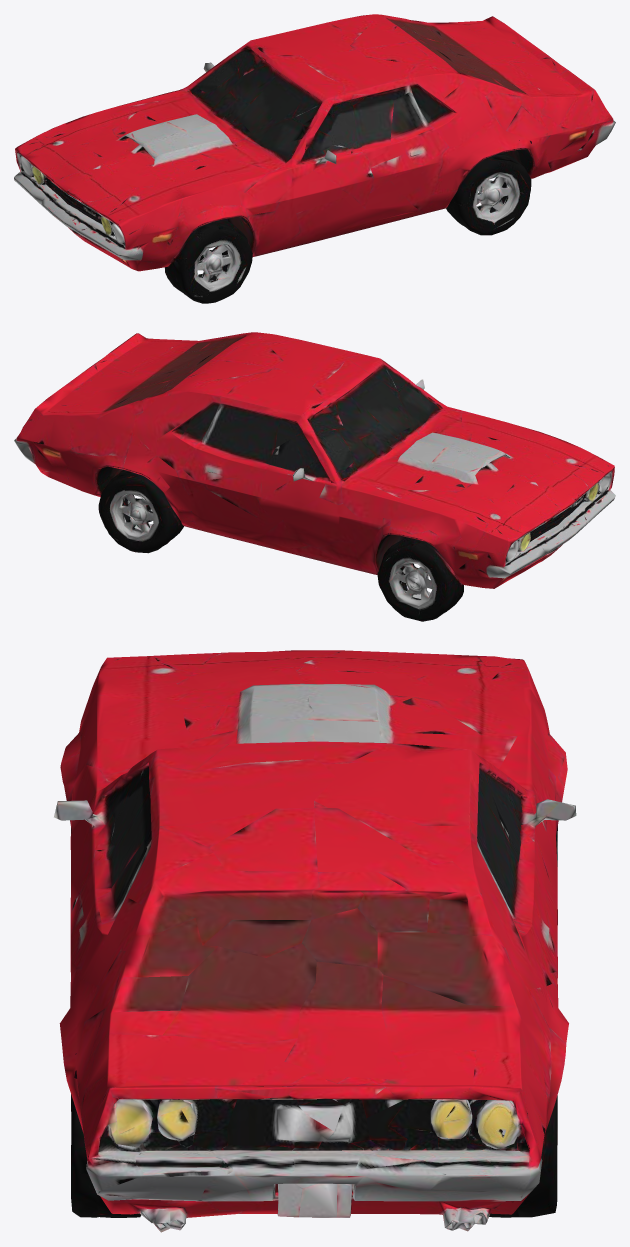
The model's file is coupe.glb.
3 renders of one model, top to bottom at view 1: azimuth 30°, elevation 25°; view 2: azimuth 150°, elevation 25°; view 3: azimuth 270°, elevation 25°, orthographic. The views are drawn at different scales.
Bounding box in the file's own units: 1.9 × 0.5835 × 0.8534.
1 material, 1 textured.
